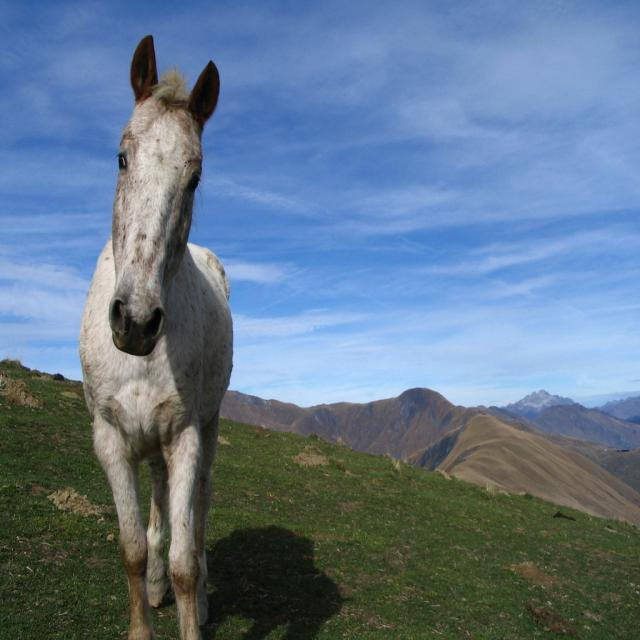Horse: (75, 33, 237, 640)
